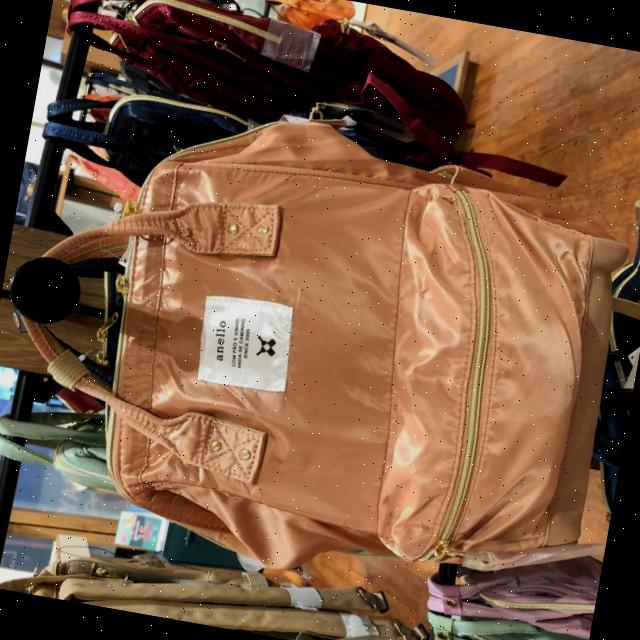handbag: (0, 79, 640, 623)
